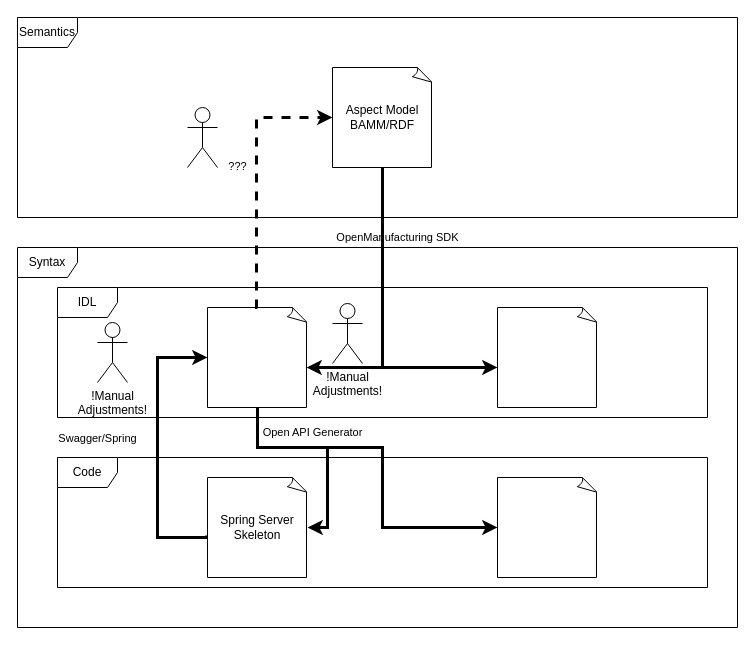
Image size: 755x645. Some labels were removed from this diagram. Here are the shapes that lost their labels. From the top down, the centre of each, then its label:
At pixel 202 137: "!Manual Editing!".
At pixel 257 357: "API OAI".
At pixel 547 357: "Documentation PNG/HTML".
At pixel 547 527: "Javascript Client Stub".
